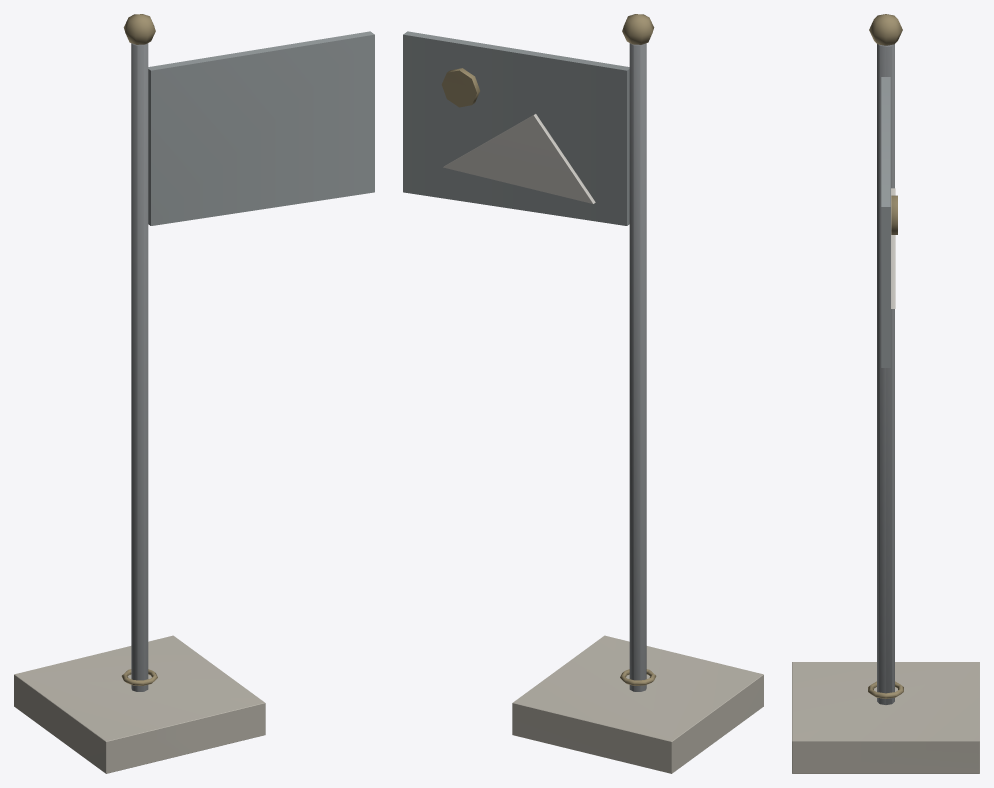
Rendered from flag_stand_low.glb.
3 renders of one model, left to right at view 1: azimuth 30°, elevation 25°; view 2: azimuth 150°, elevation 25°; view 3: azimuth 270°, elevation 25°, orthographic.
Size of the model in its own units: 1.41 by 3.05 by 0.72.
